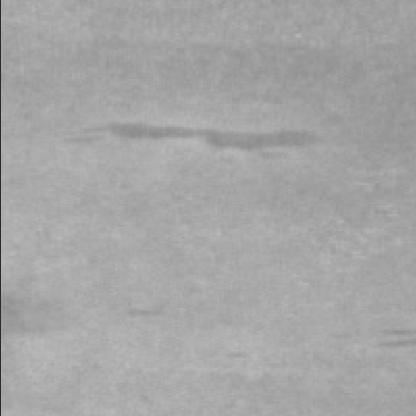inclusion: (60, 108, 344, 164), (366, 316, 412, 362)
